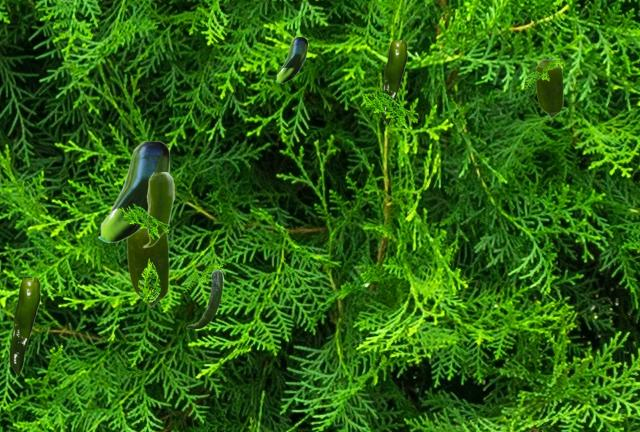green_chili: (97, 141, 168, 242), (126, 229, 168, 306), (9, 278, 39, 375), (142, 172, 173, 247), (380, 40, 406, 124), (186, 270, 222, 328), (535, 59, 562, 117), (275, 37, 306, 82)
